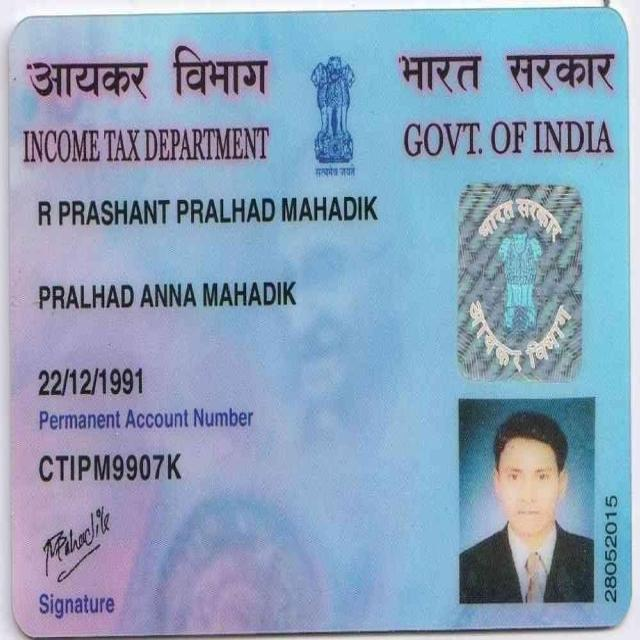pan_card: (10, 14, 628, 635)
